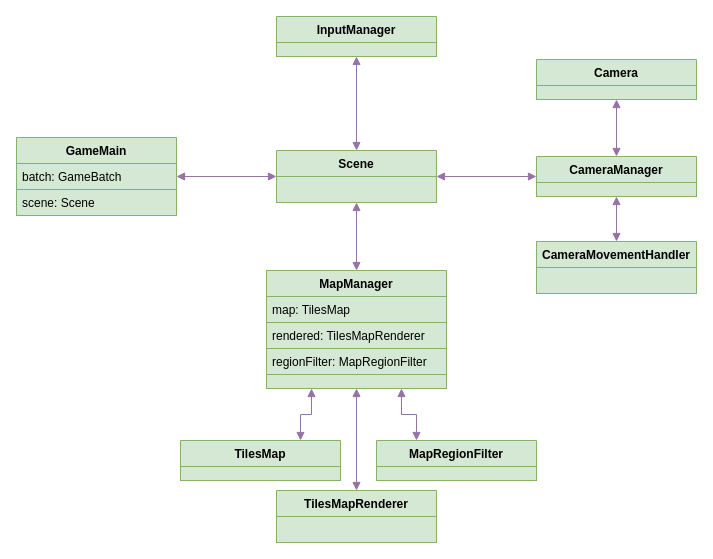
This 713x559 diagram has some shape labels left out. Here are the shapes that lost their labels. From the top down, the centre of each, then its label:
At point (356, 189): "game: GameMain".
At point (616, 280): "camera: Camera".
At point (356, 529): "tilesMap: TilesMap".
